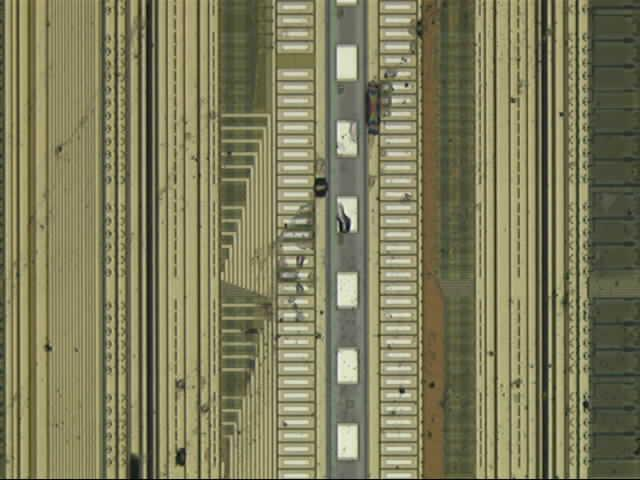PO CONTAMINATION: (37, 1, 595, 480)
